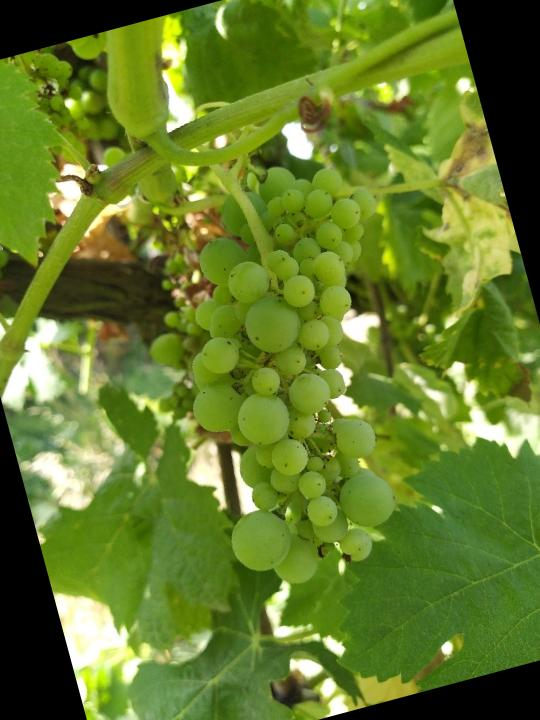grape: (132, 141, 472, 603)
